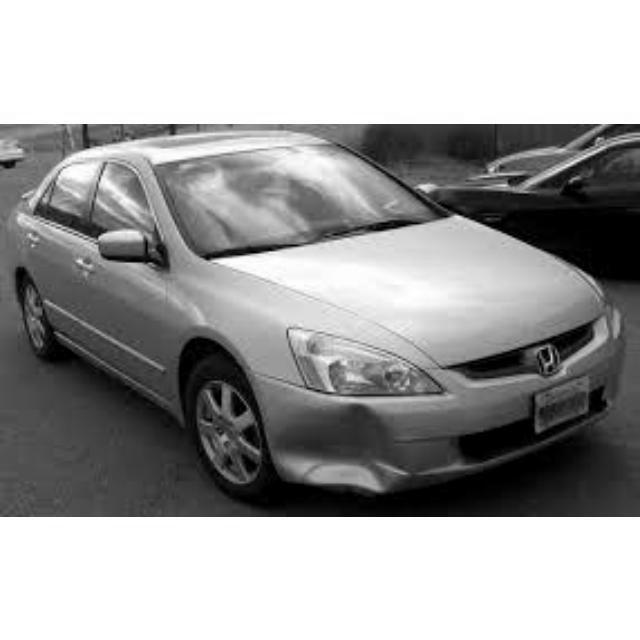front-bumper-dent: (267, 374, 631, 492)
